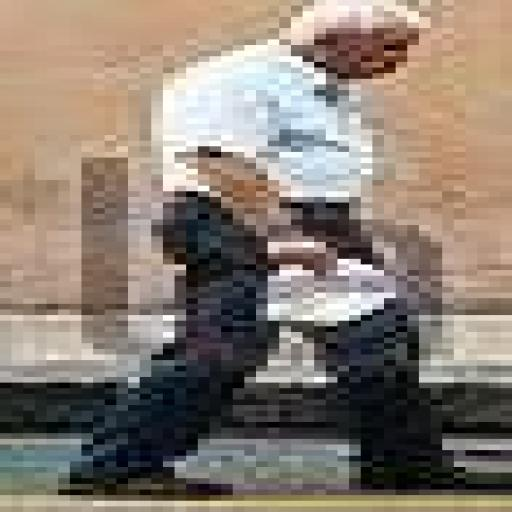person: (59, 0, 430, 495)
